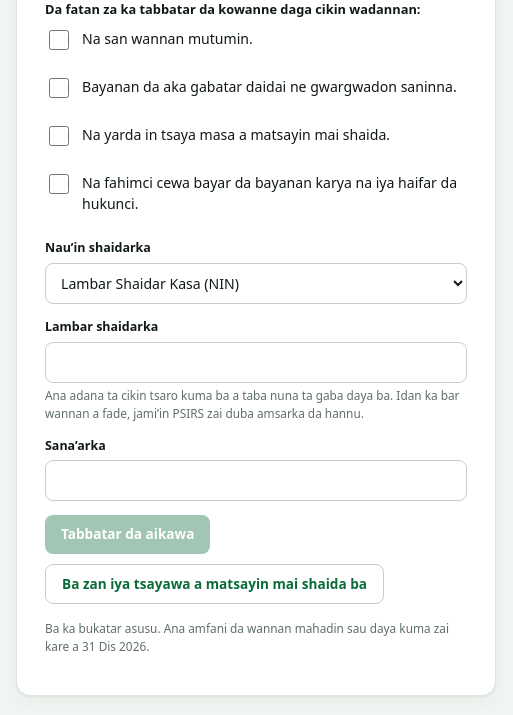
Test: the referee can read the page in Hausa › translates the decline confirmation, which is the irreversible one
The width and height of the screenshot is (513, 715).
(page scrolled)
What coordinates should you click on to do the following:
click the button "Ba zan iya tsayawa a matsayin mai shaida ba"
I would click on:
 (214, 584)
Its box is [45,564,384,604].
(page scrolled)
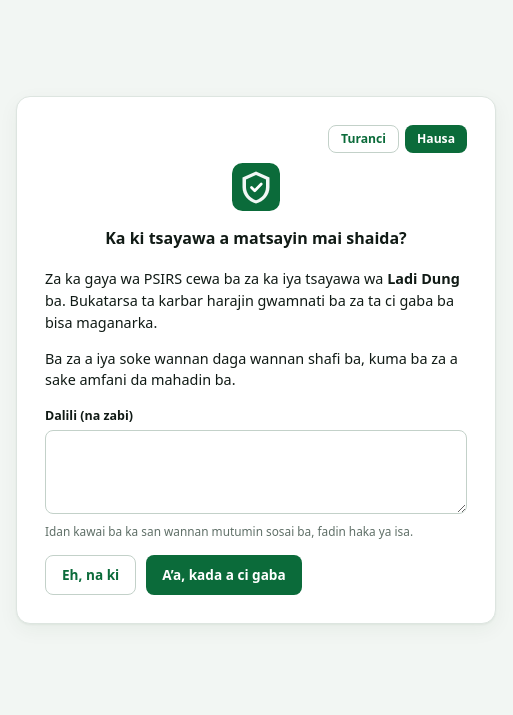
Check: the text "Ba za a iya soke wannan daga wannan shafi ba, kuma ba za a sake amfani da mahadin ba." is shown, box [45,348,458,389]
Check: the button "A’a, kada a ci gaba" is shown, box [146,555,302,595]
Check: the button "Eh, na ki" is shown, box [45,555,136,595]
